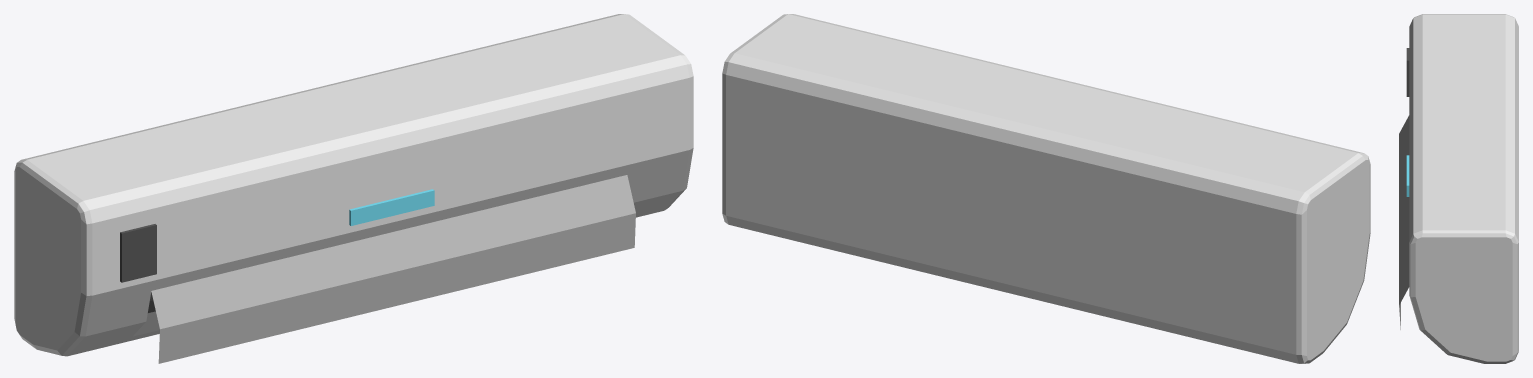
Rendered from Prop_AC.fbx.
3 renders of one model, left to right at view 1: azimuth 30°, elevation 25°; view 2: azimuth 150°, elevation 25°; view 3: azimuth 270°, elevation 25°, orthographic. The views are drawn at different scales.
Parts seen in each view (by area): view 1: Prop_AC; view 2: Prop_AC; view 3: Prop_AC.
Part boxes in pixels (box(x1,y1,x2,y2)): Prop_AC: box(14, 14, 693, 363); Prop_AC: box(722, 14, 1370, 363); Prop_AC: box(1399, 14, 1518, 363).
Size of the model in its own units: 216 by 60.59 by 49.48.
